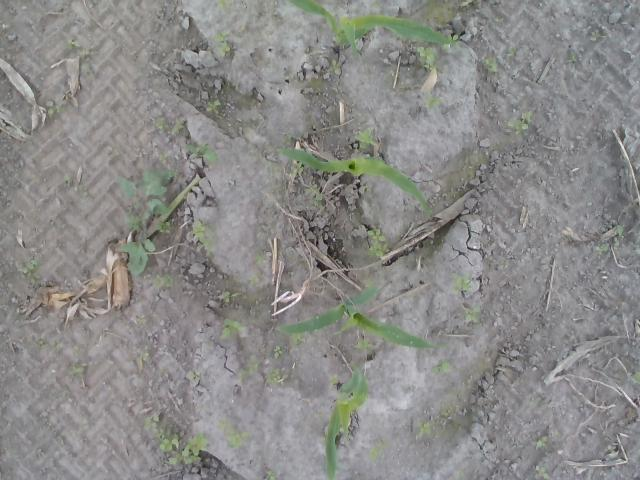Maize: (274, 286, 446, 350), (277, 147, 431, 215), (288, 0, 450, 55), (322, 362, 368, 480)
Weeds: (116, 167, 176, 275), (157, 431, 209, 466), (216, 417, 251, 449), (192, 218, 217, 258), (182, 140, 222, 162), (366, 227, 391, 258), (16, 255, 40, 286), (416, 45, 440, 72), (239, 353, 258, 384), (210, 31, 232, 56), (508, 111, 534, 131), (354, 129, 376, 151), (452, 271, 473, 294), (306, 184, 324, 210), (369, 438, 389, 460), (414, 420, 434, 438), (427, 94, 444, 114), (153, 273, 175, 288), (222, 318, 240, 336), (206, 98, 225, 114), (70, 362, 90, 377), (142, 414, 158, 432), (481, 55, 497, 73), (266, 368, 284, 384), (464, 304, 480, 321), (535, 464, 552, 480), (287, 161, 303, 178), (431, 360, 449, 374), (222, 290, 242, 302), (290, 332, 306, 345), (172, 117, 184, 134), (508, 47, 520, 64), (154, 116, 168, 130), (272, 344, 284, 360), (46, 104, 64, 114), (330, 60, 341, 76), (264, 468, 278, 480), (355, 338, 369, 350), (606, 444, 618, 458), (536, 435, 548, 448), (215, 0, 232, 9), (283, 132, 295, 144), (590, 30, 602, 42), (67, 38, 81, 48), (566, 50, 576, 63), (632, 370, 640, 386), (596, 243, 610, 252), (36, 336, 45, 350), (138, 351, 149, 361), (527, 399, 544, 405), (330, 374, 340, 384), (440, 407, 451, 416), (616, 224, 624, 236), (447, 34, 459, 42), (254, 255, 264, 264), (136, 314, 146, 322), (500, 259, 508, 269), (190, 372, 200, 380), (249, 275, 257, 285), (456, 468, 465, 476), (496, 16, 504, 22)
